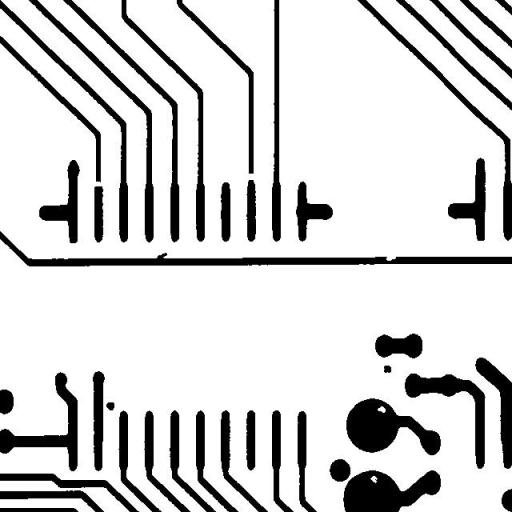copper: (98, 394, 122, 418), (376, 358, 398, 380)
mousebite: (378, 246, 404, 268)
open: (82, 172, 110, 194), (238, 166, 262, 187)
pin-hole: (362, 468, 385, 490), (370, 398, 392, 420)
spur: (149, 245, 174, 266)
